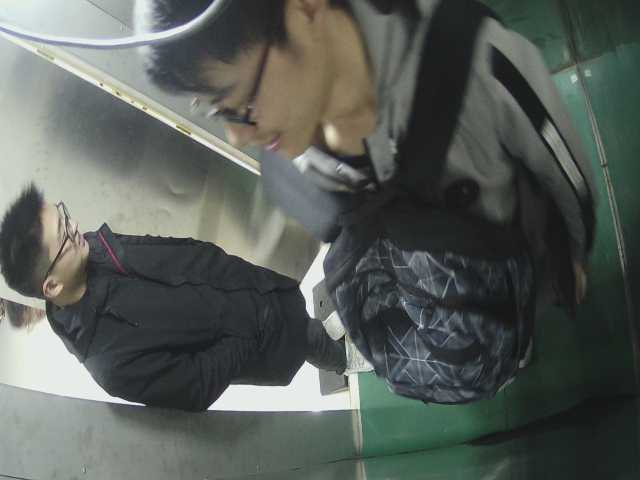bag: (313, 189, 545, 412)
person: (117, 4, 609, 212), (3, 185, 309, 407)
